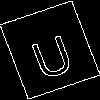U: (24, 25, 77, 81)
